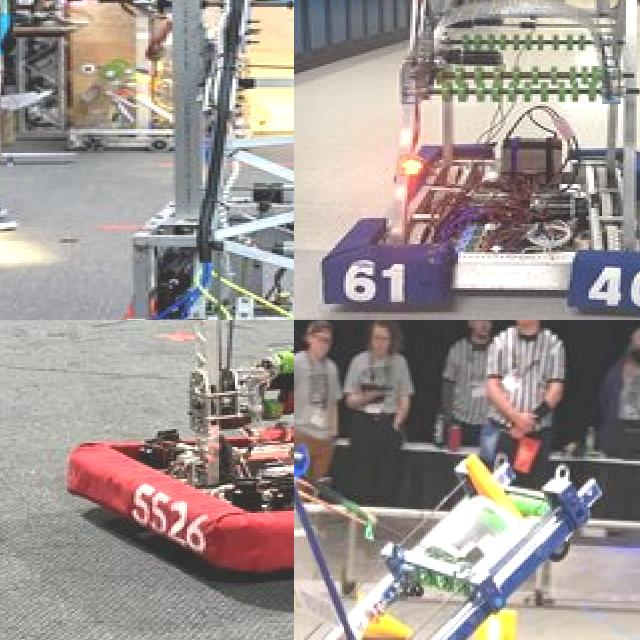FRC-Robots: (294, 0, 640, 307), (21, 0, 294, 320), (294, 407, 603, 640), (69, 320, 294, 598)
